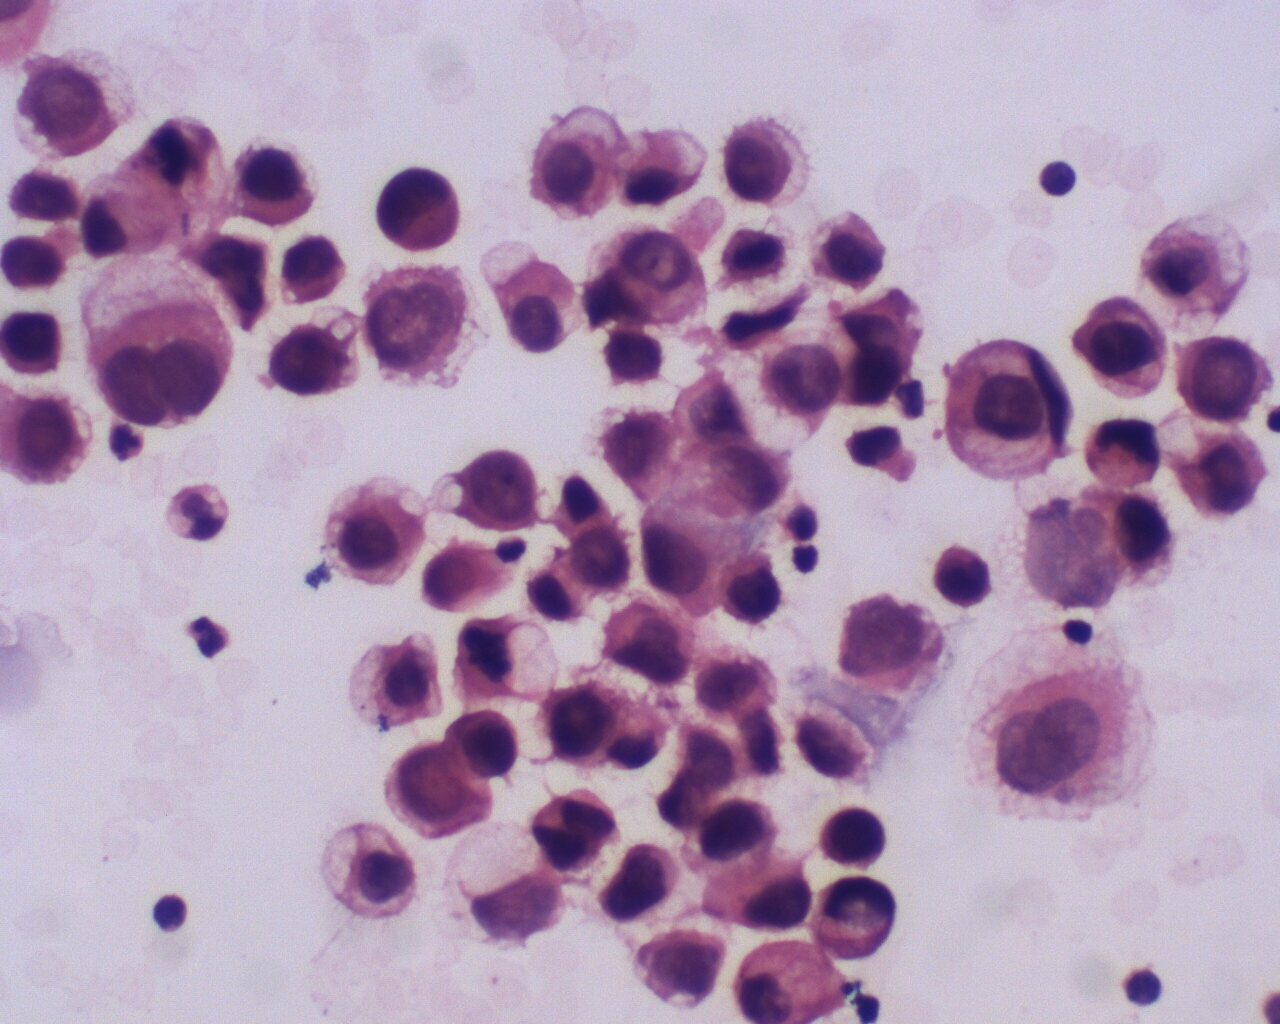ab: (357, 265, 475, 383), (11, 48, 130, 162), (835, 584, 950, 695), (383, 732, 495, 841), (1170, 423, 1274, 525), (696, 853, 816, 937), (1176, 329, 1275, 432), (1077, 297, 1166, 403), (721, 108, 808, 211), (368, 167, 470, 253), (601, 601, 701, 686), (542, 676, 628, 774), (807, 200, 890, 300), (815, 867, 901, 964), (453, 443, 539, 539), (266, 321, 365, 404), (527, 791, 616, 876), (1085, 412, 1167, 495), (599, 841, 683, 922), (694, 796, 779, 871), (444, 701, 518, 785), (276, 234, 354, 308), (714, 552, 786, 627), (929, 536, 996, 615), (817, 802, 889, 872), (2, 304, 66, 376)
histo: (937, 332, 1077, 484)
lymph: (144, 888, 195, 937), (1038, 152, 1080, 205)
neutro: (185, 608, 233, 664), (100, 419, 152, 466)
